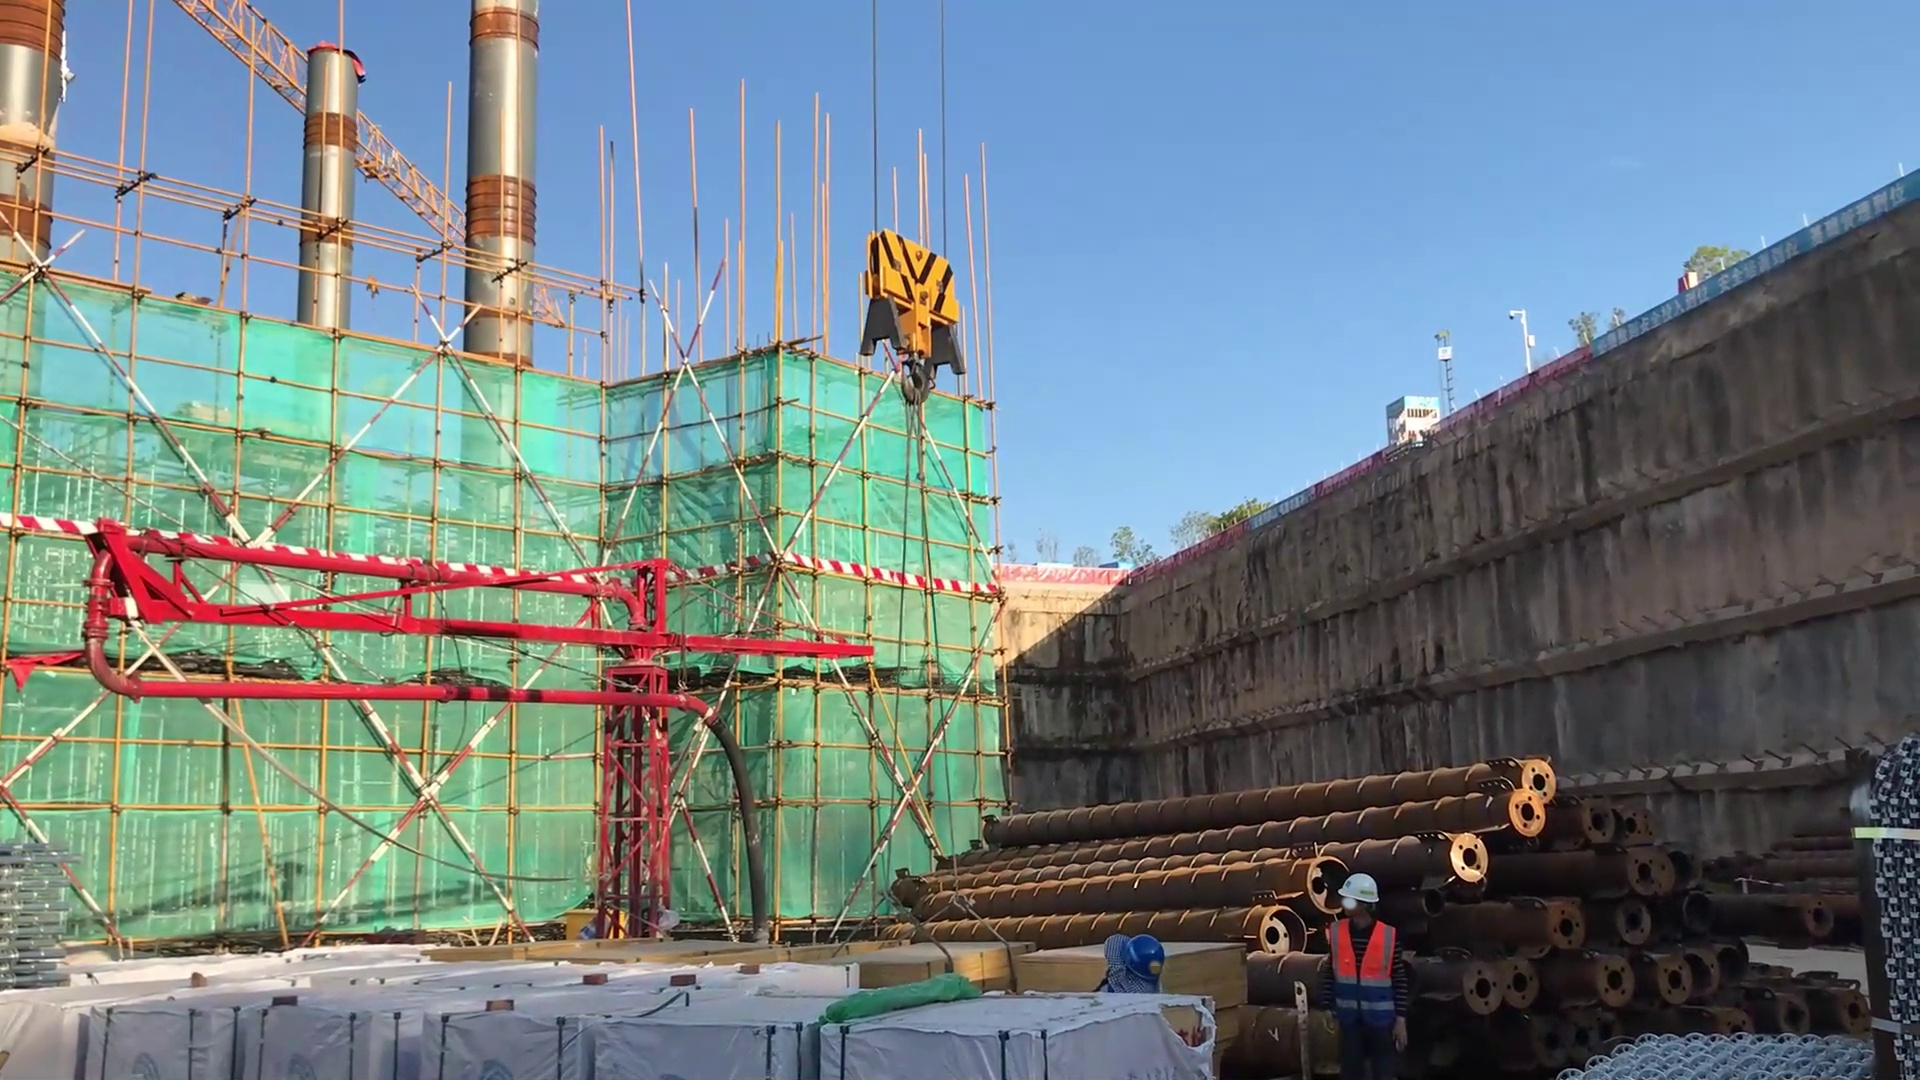board: (1010, 940, 1255, 1030), (828, 935, 1031, 999)
ebox: (556, 906, 620, 941)
helmet: (1120, 920, 1176, 1002), (1338, 869, 1388, 934)
hook: (843, 212, 981, 427)
person: (1286, 869, 1423, 1080)
scaffold: (1, 820, 109, 1004), (1865, 733, 1920, 1073)
slogan: (1590, 161, 1906, 361), (1242, 490, 1322, 535)
vest: (1325, 923, 1409, 1042)
